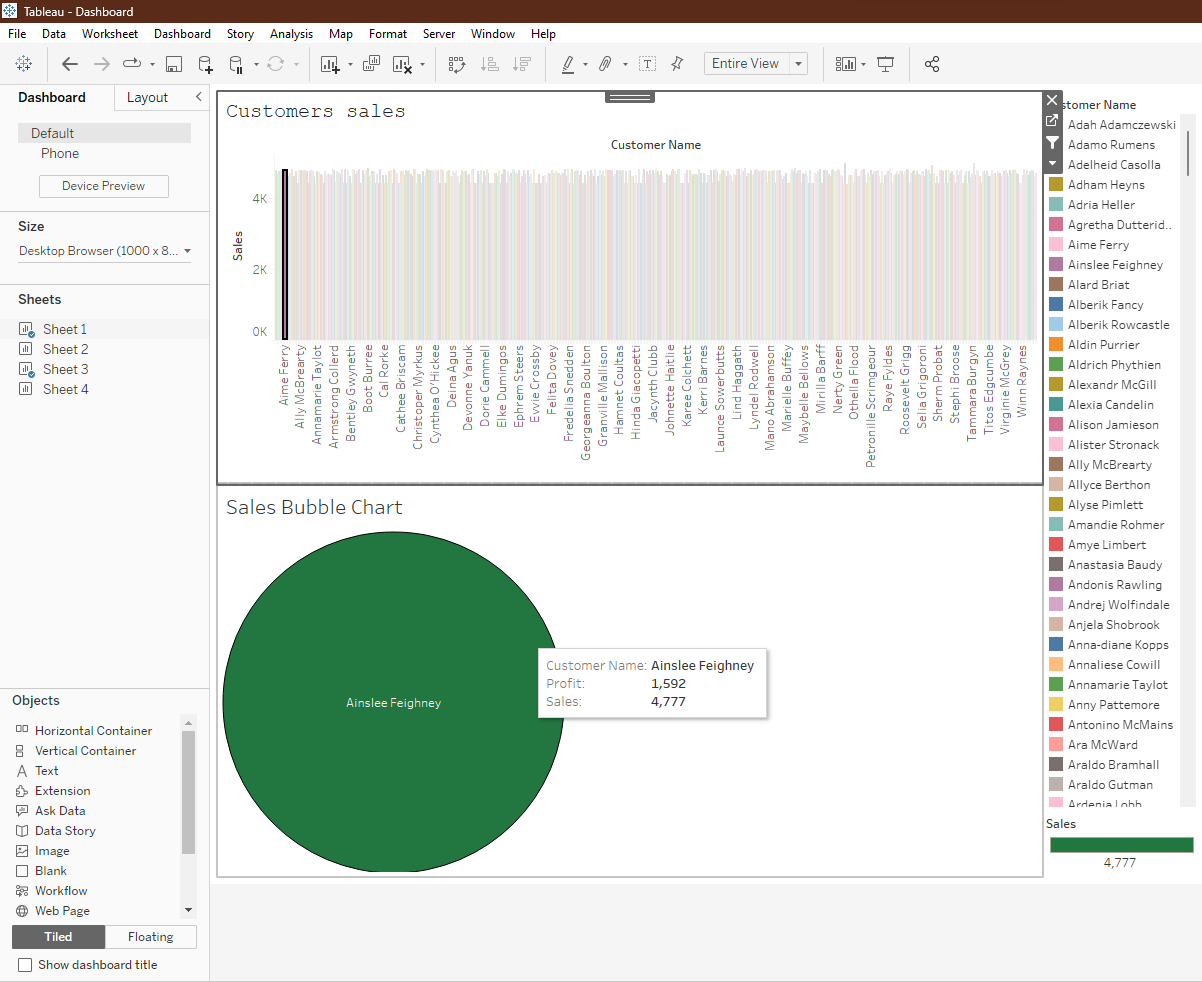

Layout of this report page (visuals, bound fields, positions):
{"tool":"tableau","page":{"name":"Dashboard 1","canvas":[1000,800],"ordinal":0},"visuals":[{"type":"worksheet","title":"Sheet 1","mark":"Automatic","rows":["Sales"],"cols":["Customer Name"],"box":[8,8,824,392]},{"type":"legend","title":"Sheet 3","param":"[federated.0odcmp814vo49c12unesk1s64ar7].[sum:Sales:qk]","box":[832,8,160,65]},{"type":"legend","title":"Sheet 1","param":"[federated.0odcmp814vo49c12unesk1s64ar7].[none:Customer Name:nk]","box":[832,73,160,719]},{"type":"worksheet","title":"Sheet 3","mark":"Circle","box":[8,400,824,392]}]}

Visuals, with their boxes in screenshot pixels (x1, y1, x2, y2):
"Sheet 1" worksheet: bbox=(66, 19, 1043, 484)
"Sheet 3" legend: bbox=(1043, 19, 1201, 96)
"Sheet 1" legend: bbox=(1043, 96, 1201, 948)
"Sheet 3" worksheet (Circle marks): bbox=(66, 484, 1043, 948)
